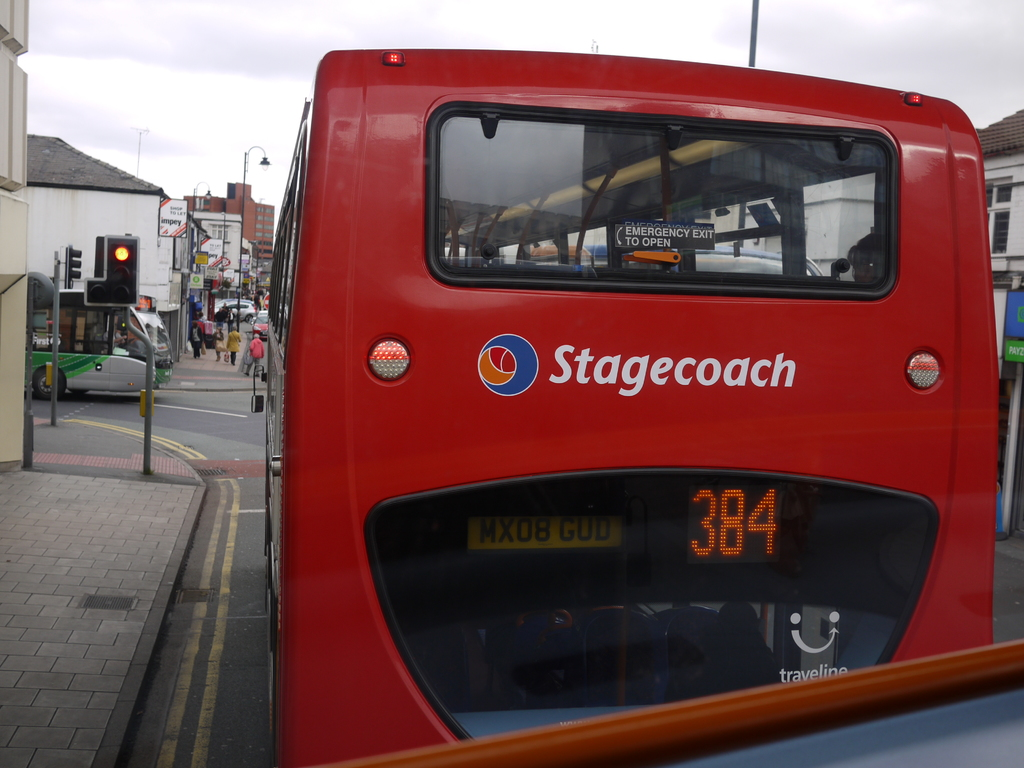Car: (215, 300, 257, 323), (252, 316, 268, 341), (213, 298, 256, 304), (252, 310, 269, 318)
